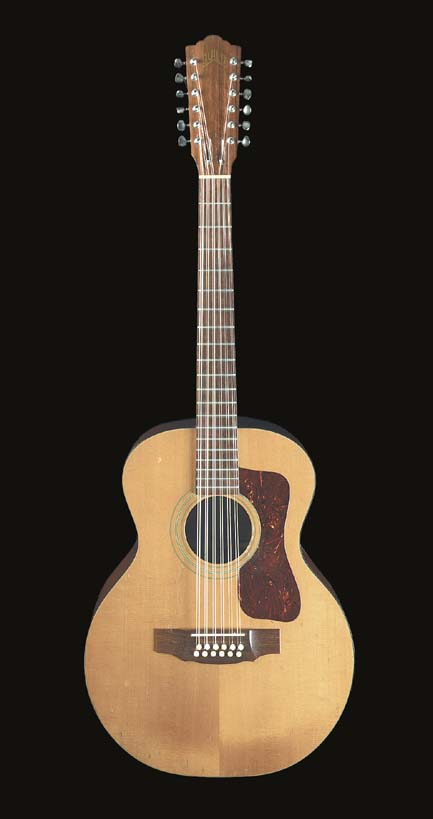guitar: (82, 35, 357, 782)
